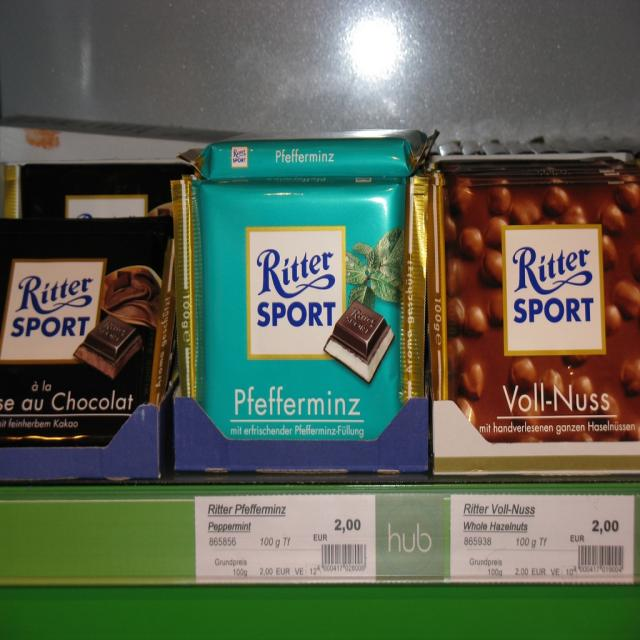rittersport: (245, 225, 348, 360), (503, 225, 608, 357), (2, 259, 106, 362)
